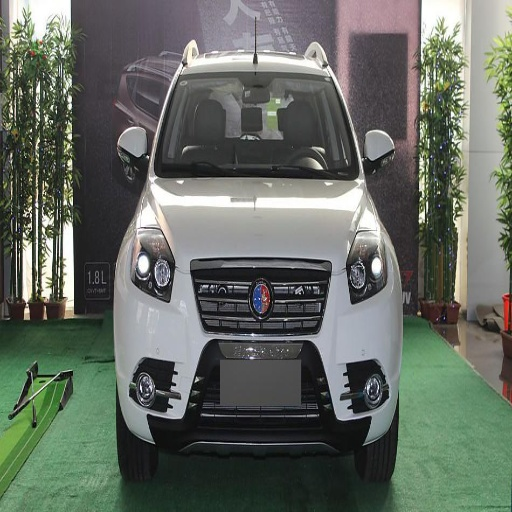front_bumper: (117, 256, 402, 451)
front_right_light: (129, 226, 174, 301)
hood: (152, 178, 363, 266)
